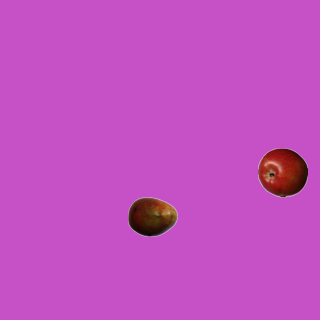Apple Braeburn: (257, 147, 307, 197)
Mango Red: (127, 191, 177, 241)
